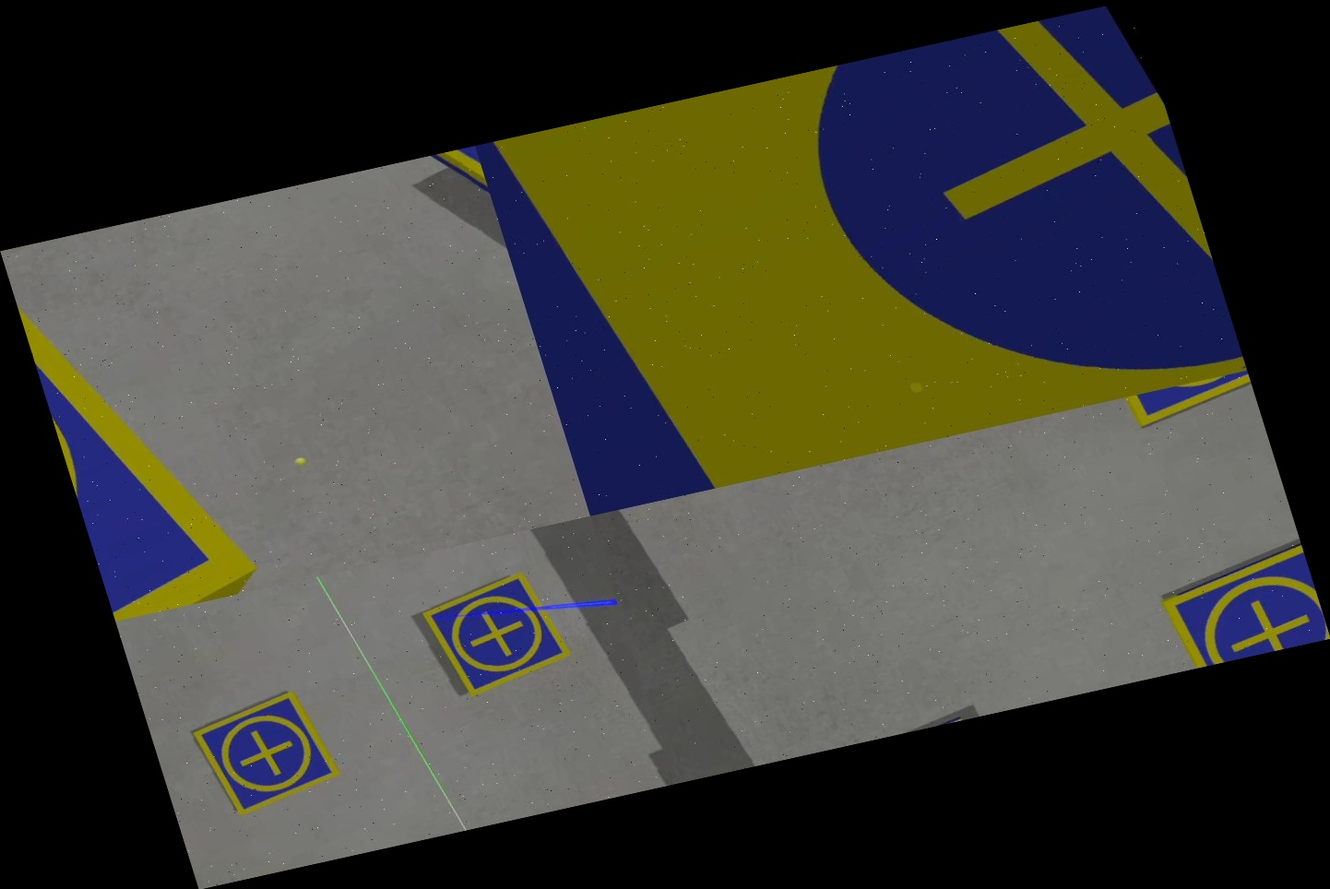large_base: (475, 0, 1246, 516)
small_base: (0, 215, 279, 621), (1146, 539, 1330, 671), (412, 563, 579, 704), (185, 685, 351, 824)
